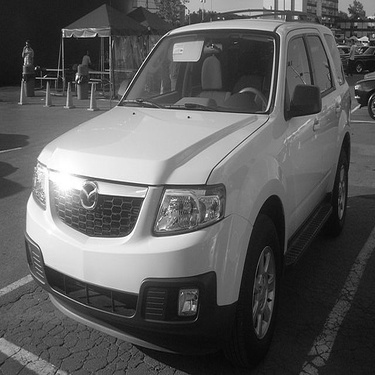car: (20, 19, 359, 371), (328, 76, 372, 122), (357, 67, 374, 84)
